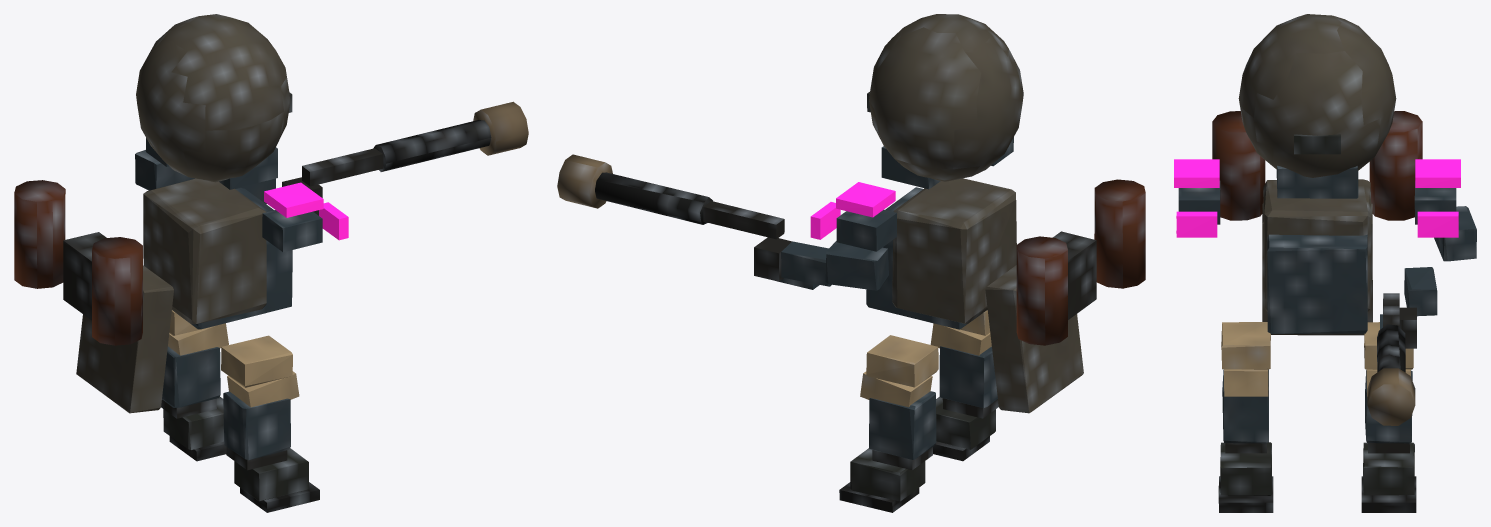
Rendered from fremen.glb.
3 views of the same model, side by side, from view 1: azimuth 30°, elevation 25°; view 2: azimuth 150°, elevation 25°; view 3: azimuth 270°, elevation 25° (orthographic).
Parts seen in each view (by area): view 1: Sandwar3D; view 2: Sandwar3D; view 3: Sandwar3D.
Part boxes in pixels (x1=…): Sandwar3D: x1=14, y1=14, x2=528, y2=512; Sandwar3D: x1=557, y1=14, x2=1145, y2=512; Sandwar3D: x1=1174, y1=14, x2=1476, y2=512.
Bounding box in the file's own units: 1.18 × 1.04 × 0.6155.
10 materials, 9 textured.
